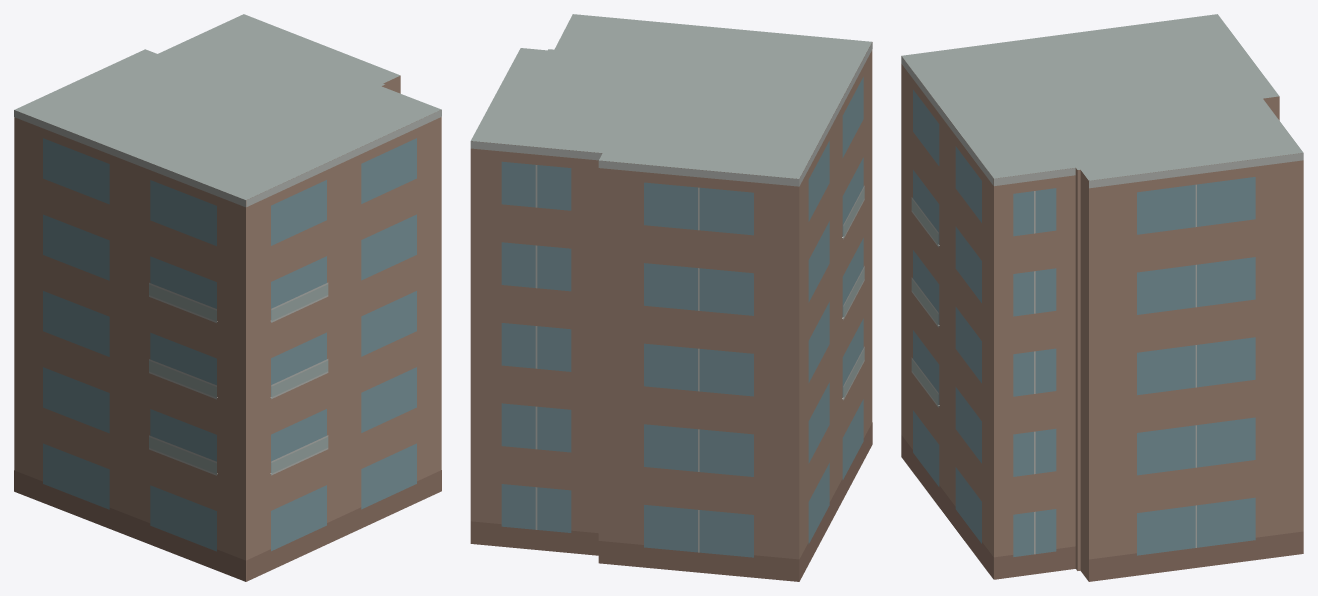
The model's file is survey-upis-32621129.glb.
3 renders of one model, left to right at view 1: azimuth 30°, elevation 25°; view 2: azimuth 150°, elevation 25°; view 3: azimuth 270°, elevation 25°, orthographic. The views are drawn at different scales.
Parts seen in each view (by area): view 1: survey-upis-32621129.tmp; view 2: survey-upis-32621129.tmp; view 3: survey-upis-32621129.tmp.
Boxes of the visible parts, bbox=[...] form: survey-upis-32621129.tmp: bbox=[14, 14, 441, 581]; survey-upis-32621129.tmp: bbox=[470, 14, 872, 581]; survey-upis-32621129.tmp: bbox=[901, 14, 1303, 581].
Bounding box in the file's own units: 11.52 × 12.9 × 11.74.
